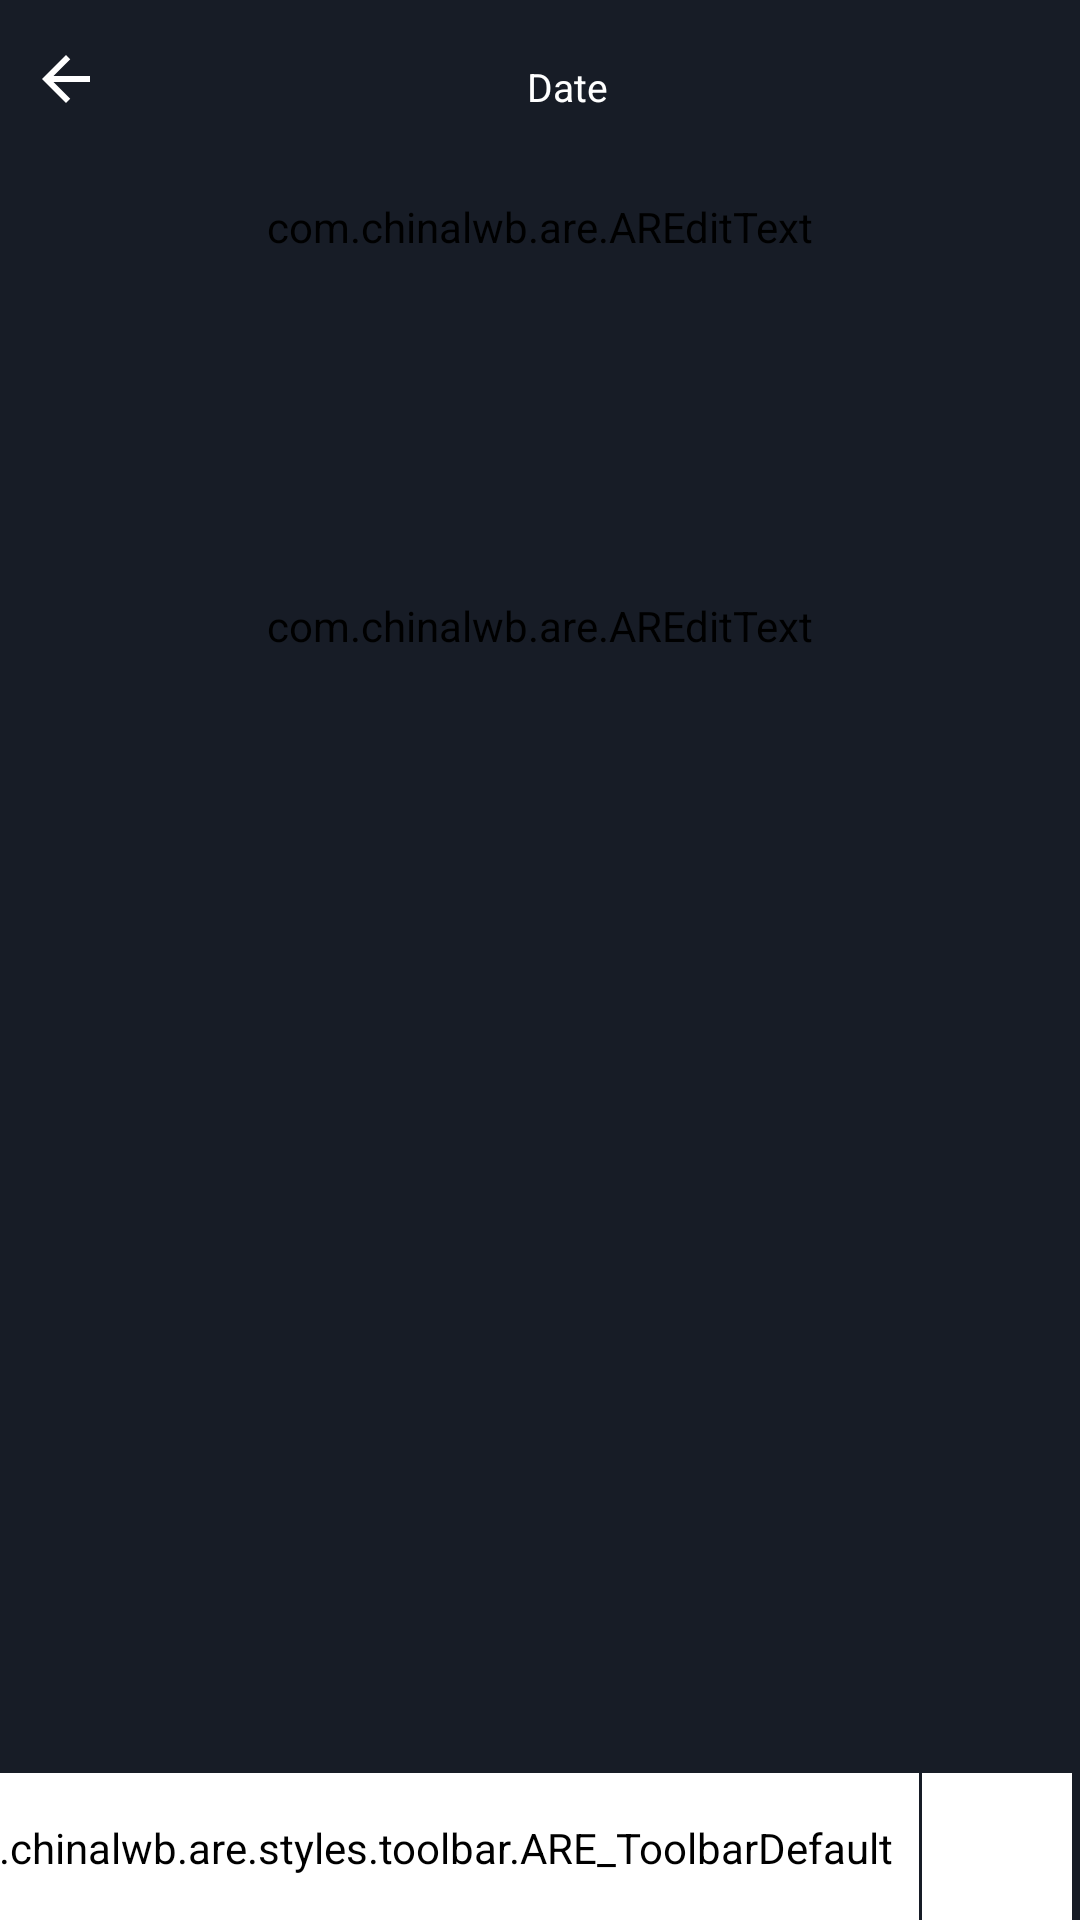

Named icons in this screenshot (1080px×1920px) and their bounding boxes, detection(x1, y1, x2, y2):
back: detection(42, 55, 90, 103)
